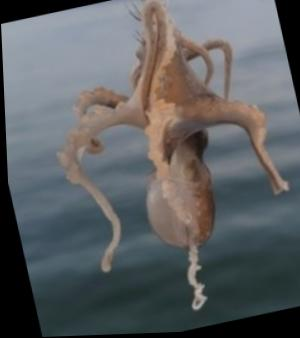Cephalopod: (54, 1, 288, 313)
